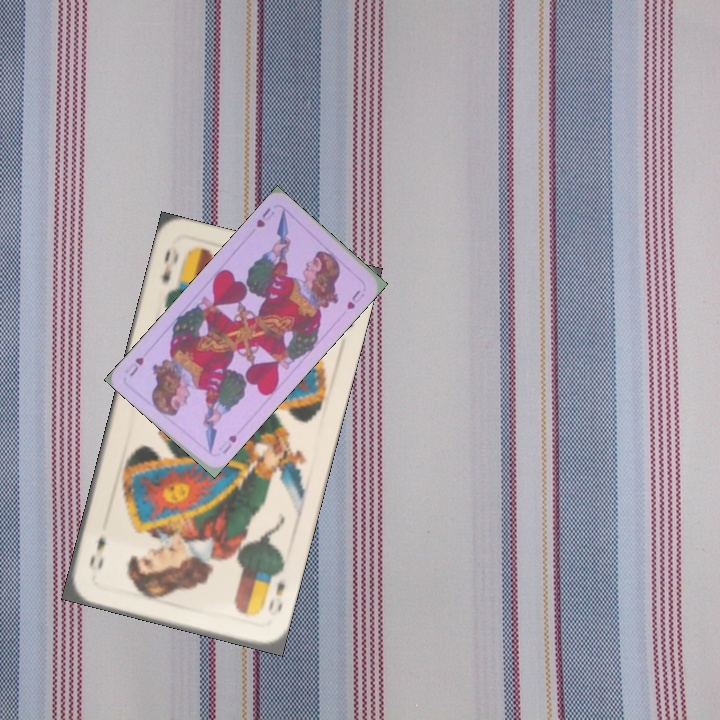EO: (157, 241, 182, 286), (264, 575, 288, 615)
HU: (252, 203, 278, 230), (215, 430, 239, 457)
